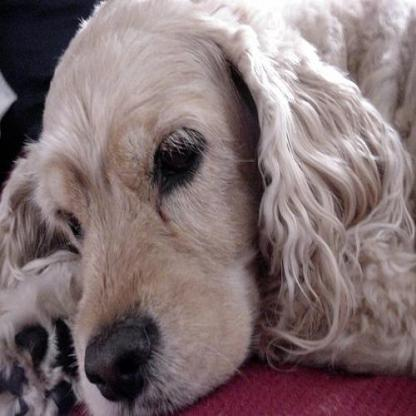cocker_spaniel: (0, 0, 414, 412)
